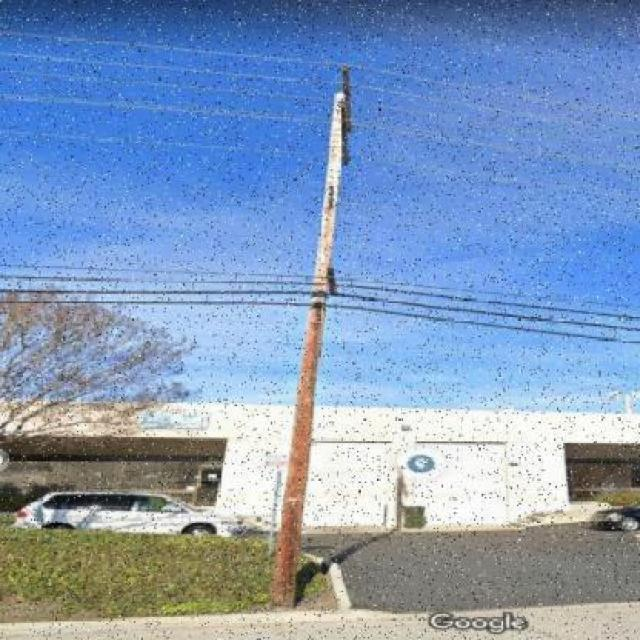pole: (274, 87, 343, 599)
wire: (1, 32, 640, 121), (1, 51, 638, 137), (0, 274, 640, 321), (0, 300, 639, 343), (0, 265, 639, 308), (0, 290, 640, 331), (1, 92, 335, 125)
